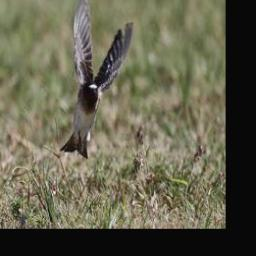Swallow: (61, 0, 133, 158)
